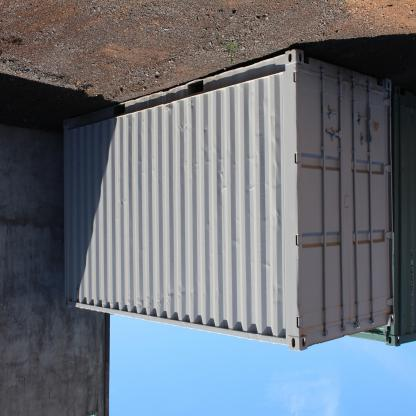Damage: (264, 117, 283, 226), (201, 152, 229, 198), (153, 284, 190, 312), (266, 279, 286, 322), (168, 108, 192, 136), (242, 252, 272, 274), (109, 190, 130, 214)
